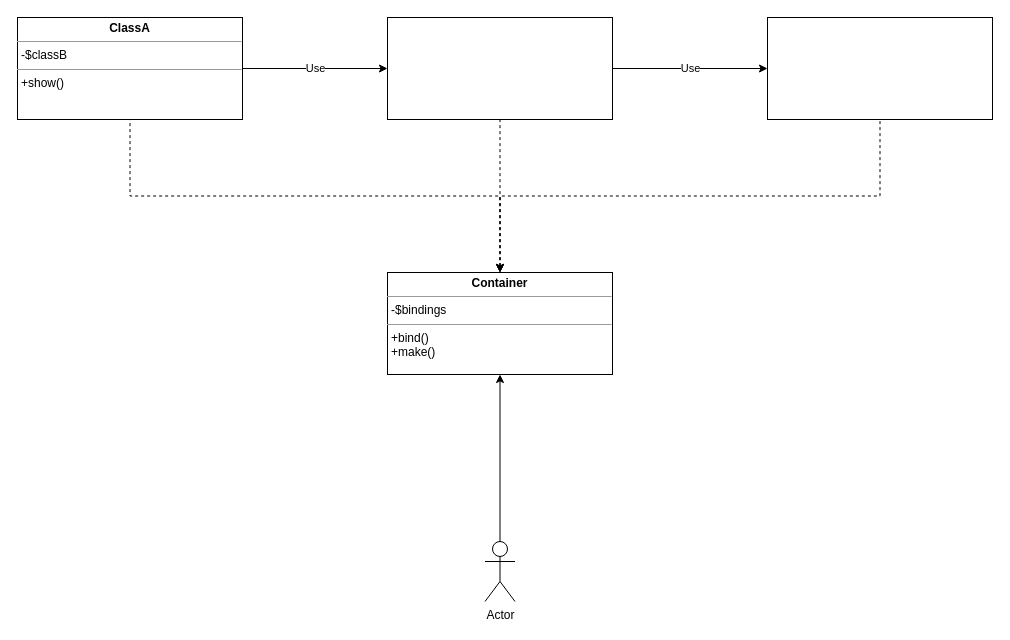
This 1010x640 diagram has some shape labels left out. The shapes that lost their labels are listed below. From the top down, each one's box as (x1, y1, x2, y2) in pixels, then its label:
(386, 16, 612, 120): ClassB -$classC +show()
(766, 16, 992, 120): ClassA +show()
